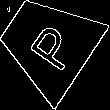P_NW: (17, 14, 78, 73)
